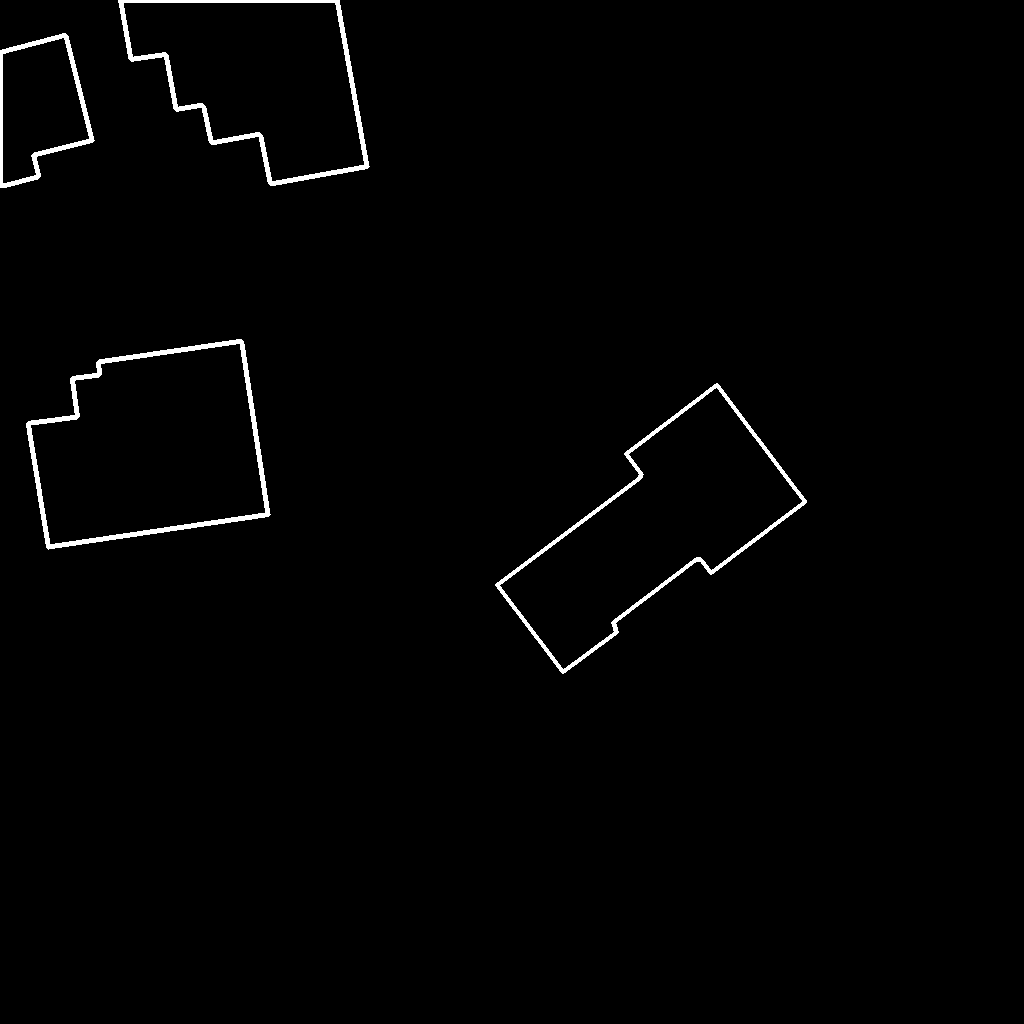building: (497, 385, 806, 673), (28, 341, 269, 548), (120, 0, 368, 185), (0, 35, 93, 187)
